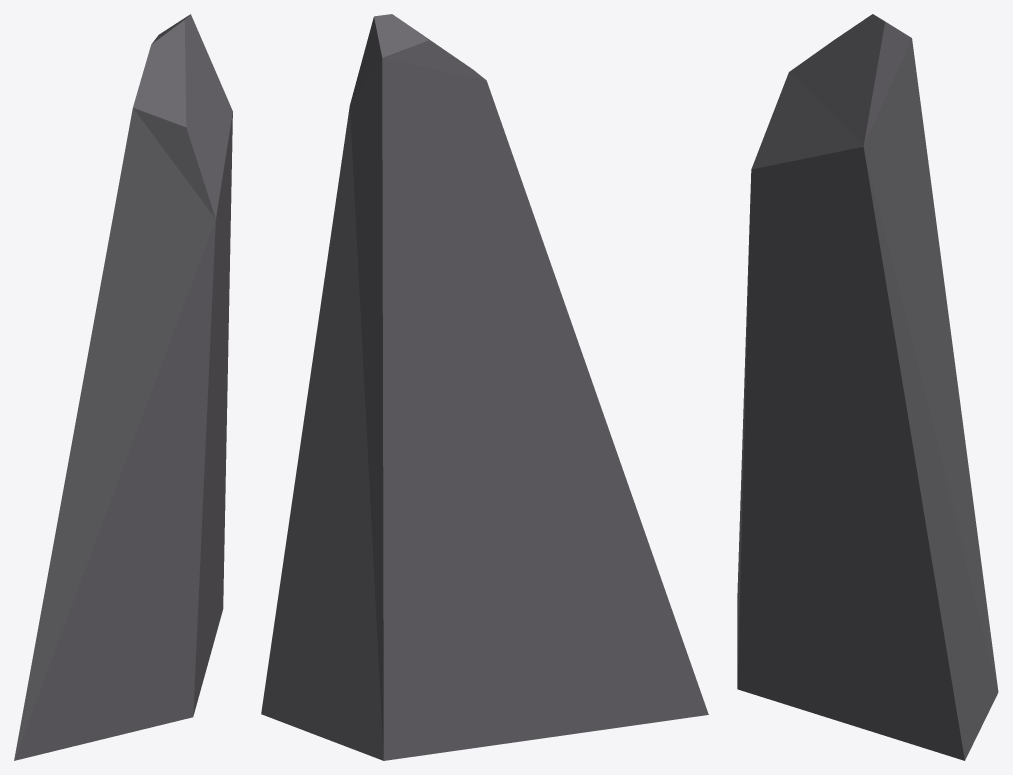
Rendered from Rock_Sharp_s_07.fbx.
The picture shows the model from 3 angles, left to right: view 1: azimuth 30°, elevation 25°; view 2: azimuth 150°, elevation 25°; view 3: azimuth 270°, elevation 25°; orthographic projection. The views are drawn at different scales.
Parts seen in each view (by area): view 1: Rock_Sharp_s_07; view 2: Rock_Sharp_s_07; view 3: Rock_Sharp_s_07.
Part boxes in pixels (x1,y1,x2,y2): Rock_Sharp_s_07: (14,14,232,760); Rock_Sharp_s_07: (261,14,708,760); Rock_Sharp_s_07: (737,14,998,760).
Size of the model in its own units: 0.3624 by 0.7093 by 0.2381.
